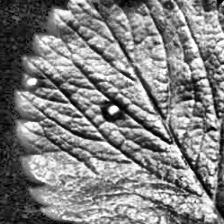Leaf Spot: (14, 0, 224, 224)
